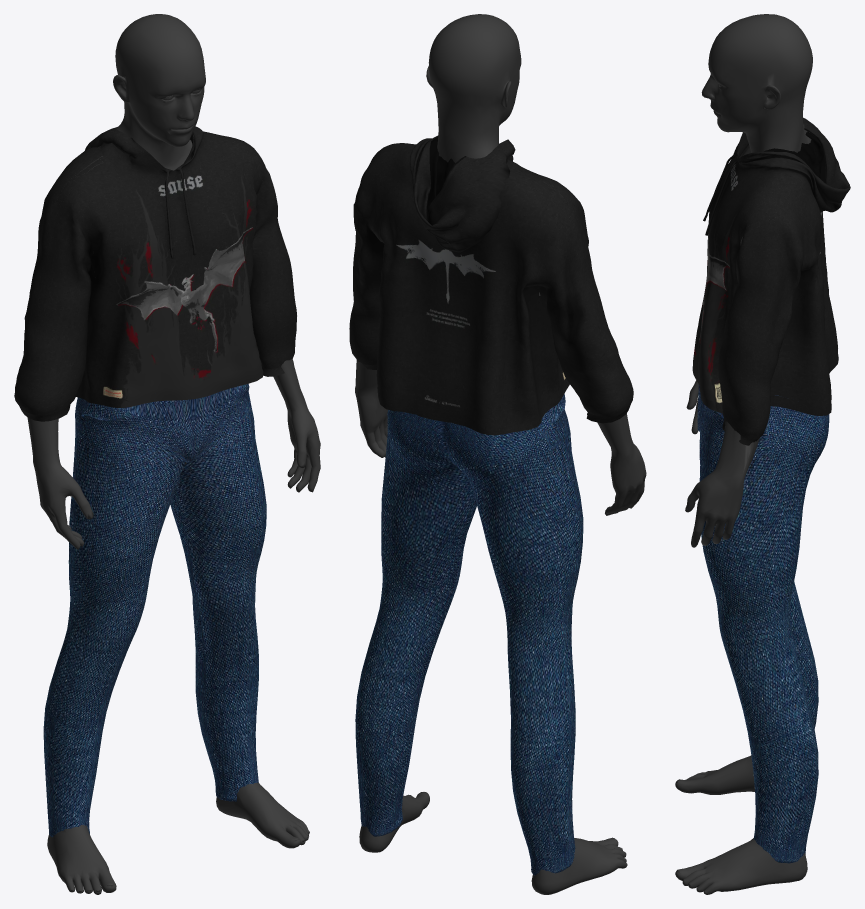
Rendered from Sause Hoodie Man.glb.
3 renders of one model, left to right at view 1: azimuth 30°, elevation 25°; view 2: azimuth 150°, elevation 25°; view 3: azimuth 270°, elevation 25°, orthographic. The views are drawn at different scales.
Parts seen in each view (by area): view 1: Hoodie_MD, jeans, MANEQUIM 1; view 2: Hoodie_MD, jeans, MANEQUIM 1; view 3: Hoodie_MD, jeans, MANEQUIM 1.
Part boxes in pixels (x1,y1,x2,y2): Hoodie_MD: (14, 126, 296, 421); jeans: (43, 384, 266, 837); MANEQUIM 1: (27, 14, 320, 894); Hoodie_MD: (349, 135, 633, 435); jeans: (355, 394, 583, 875); MANEQUIM 1: (355, 14, 646, 894); Hoodie_MD: (692, 117, 850, 445); jeans: (697, 384, 829, 863); MANEQUIM 1: (675, 14, 812, 894).
Bounding box in the file's own units: 0.7575 × 2.16 × 0.4185.
3 materials, 2 textured.
